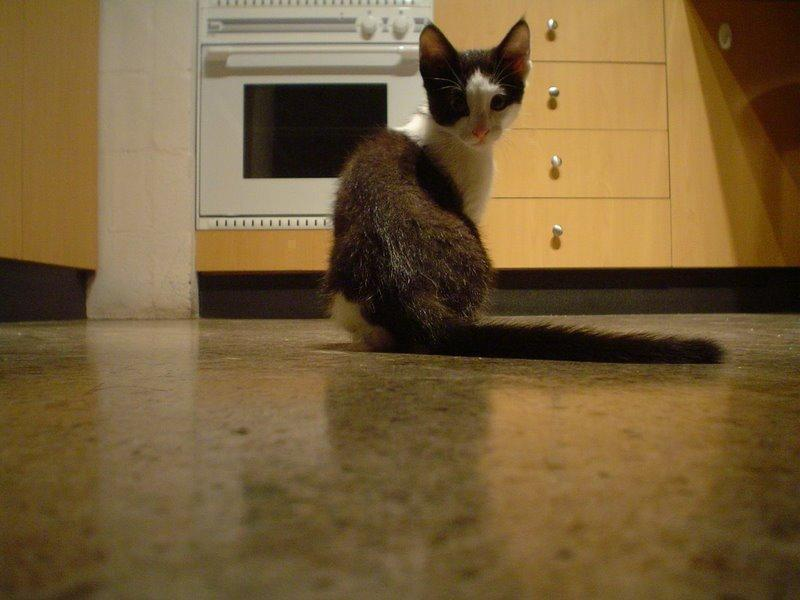Electrodomestico: (198, 7, 437, 233)
Otro Obstaculo: (303, 26, 750, 374)
